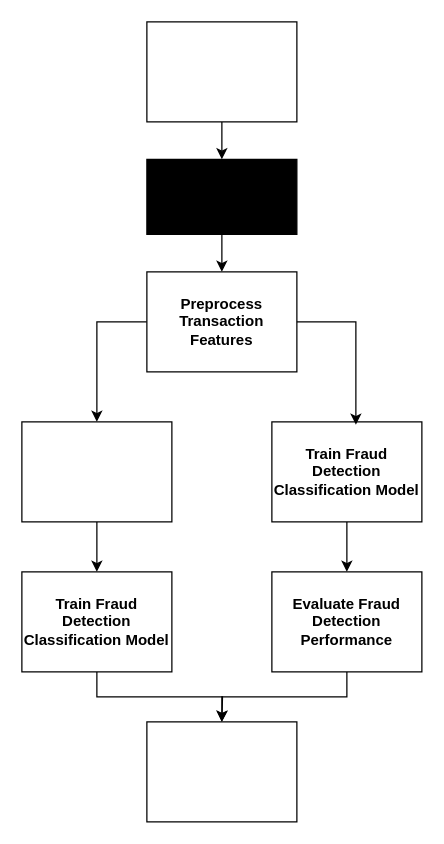
This 444x844 diagram has some shape labels left out. The shapes that lost their labels are listed below. From the top down, each one's centre as x and y in pixels, then its label:
At [221,71]: "Credit Card Fraud Dataset".
At [96,471]: "Training Transactions Data".
At [221,771]: "Fraud Detection Results".
